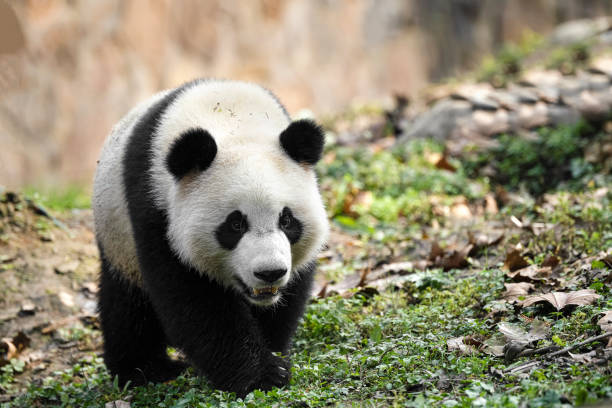panda: (139, 102, 396, 313)
